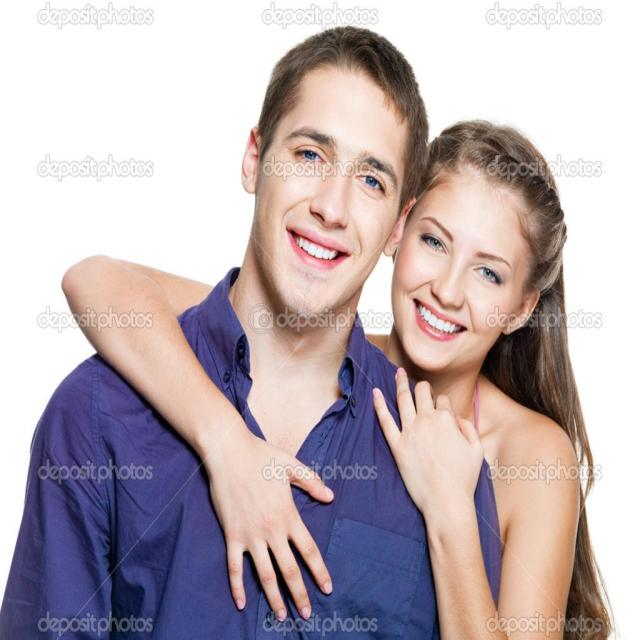Face: (255, 55, 397, 345), (404, 145, 550, 368)
